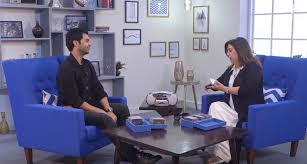Good: (54, 26, 264, 99)
